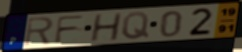0: (159, 9, 185, 38)
2: (188, 7, 215, 37)
F: (53, 14, 87, 45)
H: (88, 12, 123, 43)
Q: (121, 11, 150, 41)
R: (23, 16, 55, 47)
